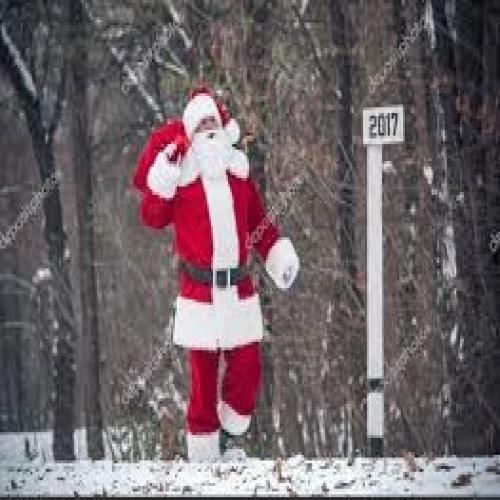Santa: (138, 88, 299, 460)
